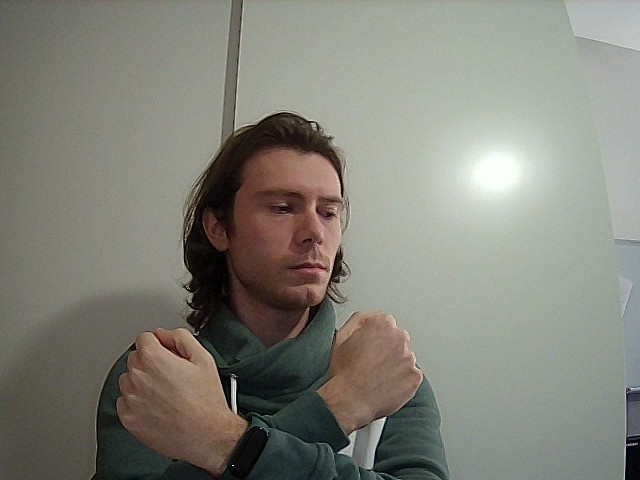del: (103, 307, 441, 480)
